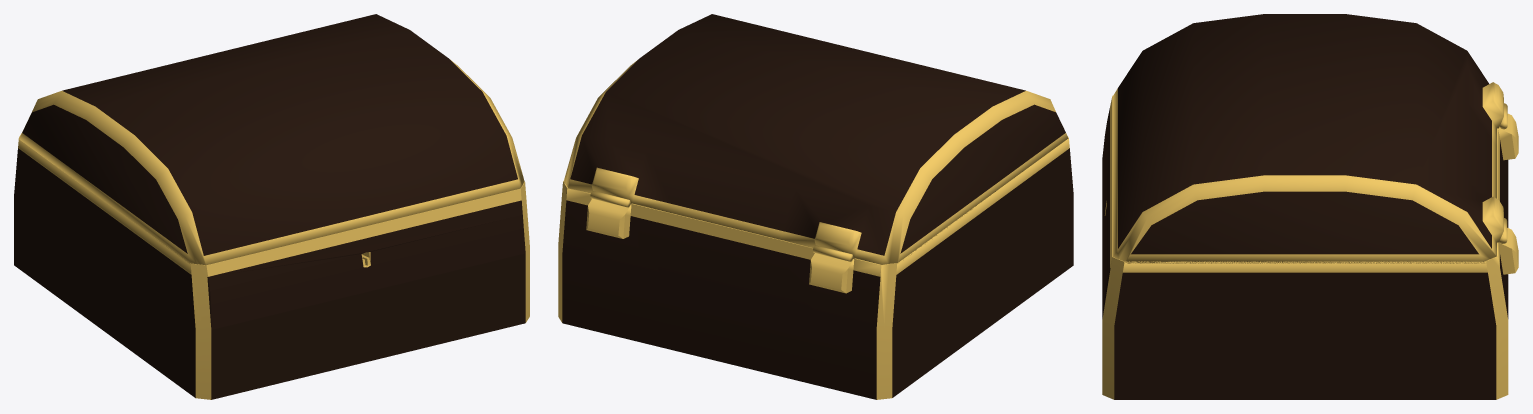
File: Treasure.FBX
The picture shows the model from 3 angles, left to right: view 1: azimuth 30°, elevation 25°; view 2: azimuth 150°, elevation 25°; view 3: azimuth 270°, elevation 25°; orthographic projection. The views are drawn at different scales.
Visible parts, largest first — view 1: Object001, Box001; view 2: Object001, Box001; view 3: Object001, Box001.
Boxes of the visible parts, x1=… form: Object001: x1=19, y1=14, x2=524, y2=265; Box001: x1=14, y1=133, x2=529, y2=399; Object001: x1=564, y1=14, x2=1068, y2=264; Box001: x1=558, y1=137, x2=1073, y2=399; Object001: x1=1113, y1=14, x2=1507, y2=263; Box001: x1=1102, y1=95, x2=1518, y2=399.
Bounding box in the file's own units: 19.69 × 11.74 × 20.19.
